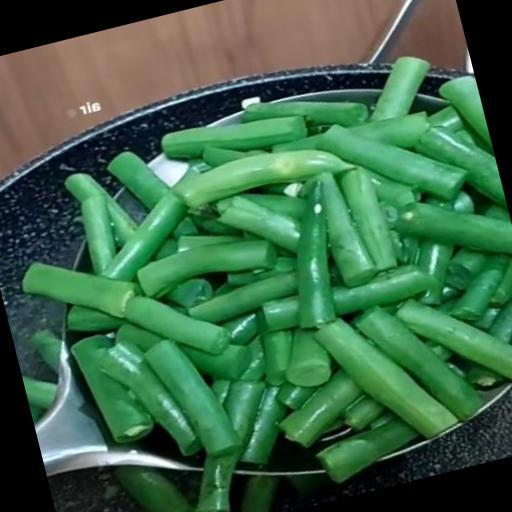buncis_rebus: (0, 11, 512, 512)
